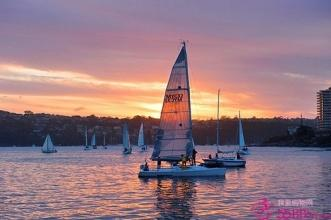fanchuan: (137, 39, 227, 180), (231, 111, 252, 153), (40, 132, 60, 155), (122, 120, 133, 156), (138, 121, 145, 153), (84, 128, 91, 151), (92, 131, 99, 150)
